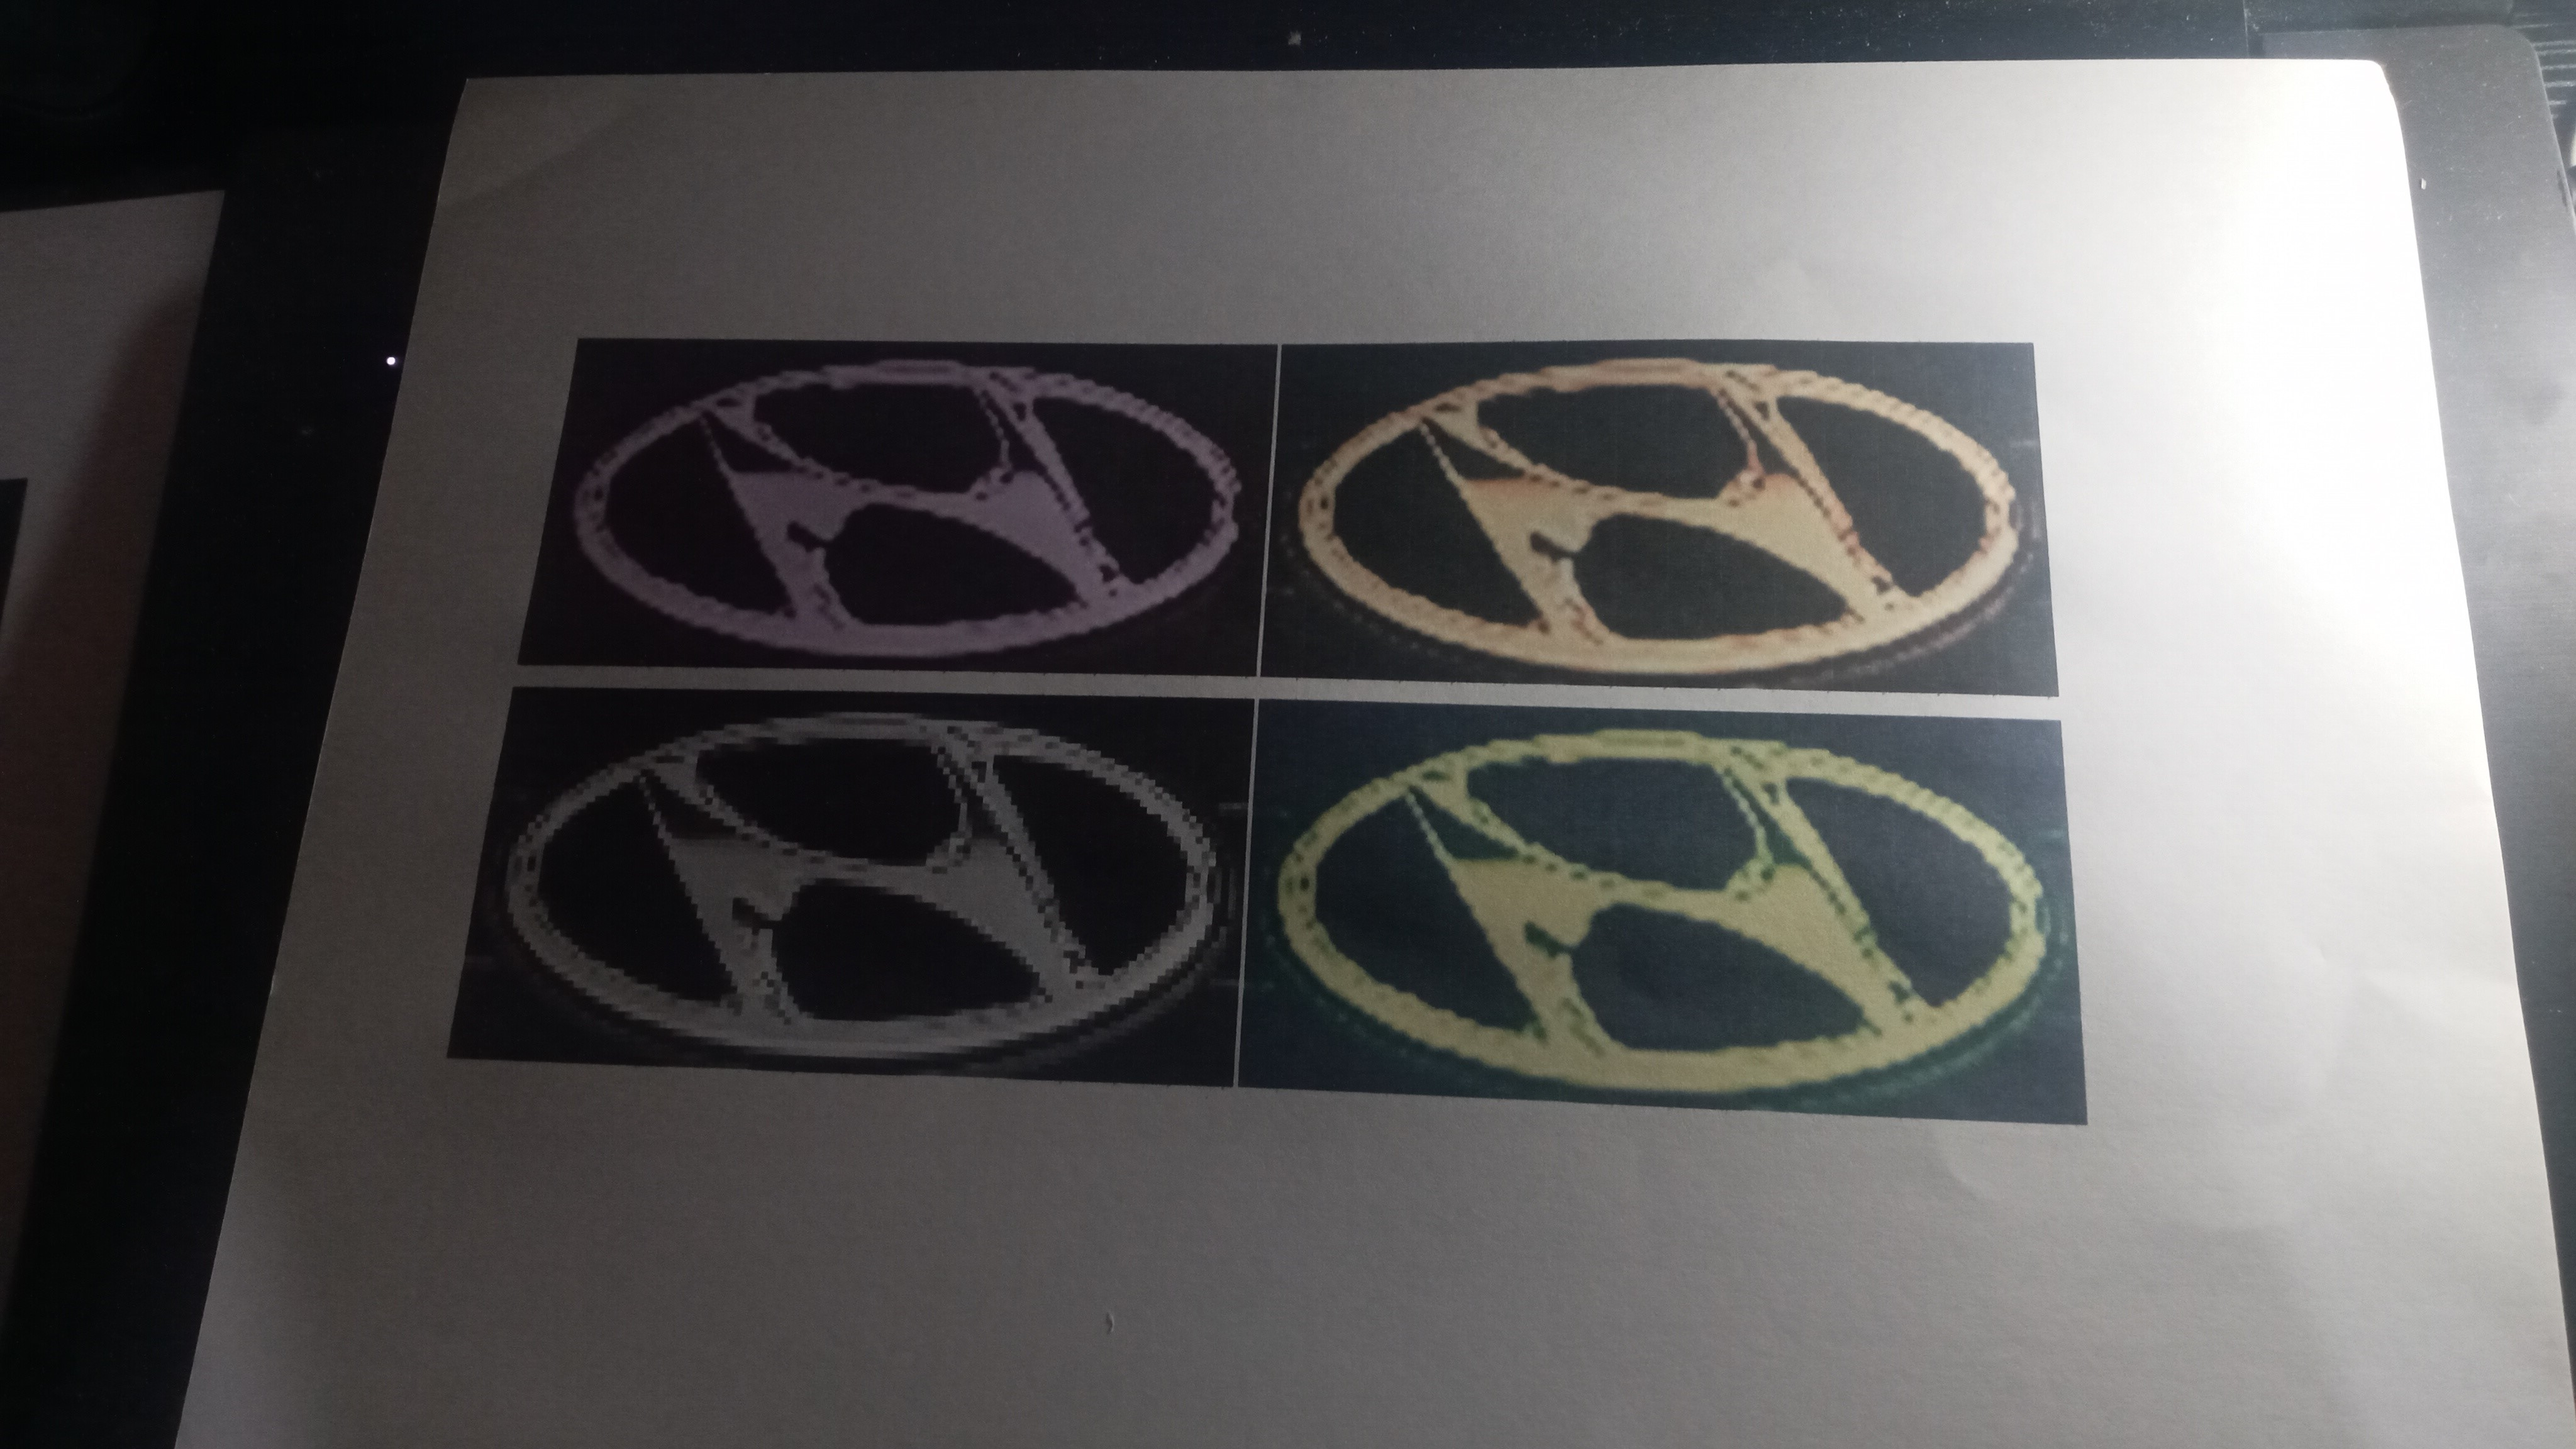Hyundai: (1261, 713, 2072, 1116), (1281, 345, 2047, 697), (504, 690, 1212, 1069), (584, 343, 1258, 679)
